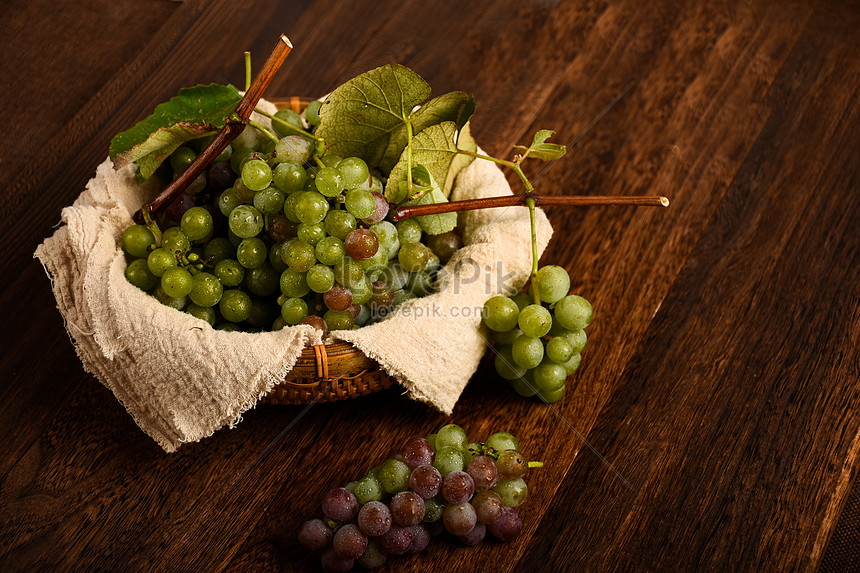grapes: (135, 176, 444, 326), (300, 444, 541, 561), (489, 263, 594, 408)
